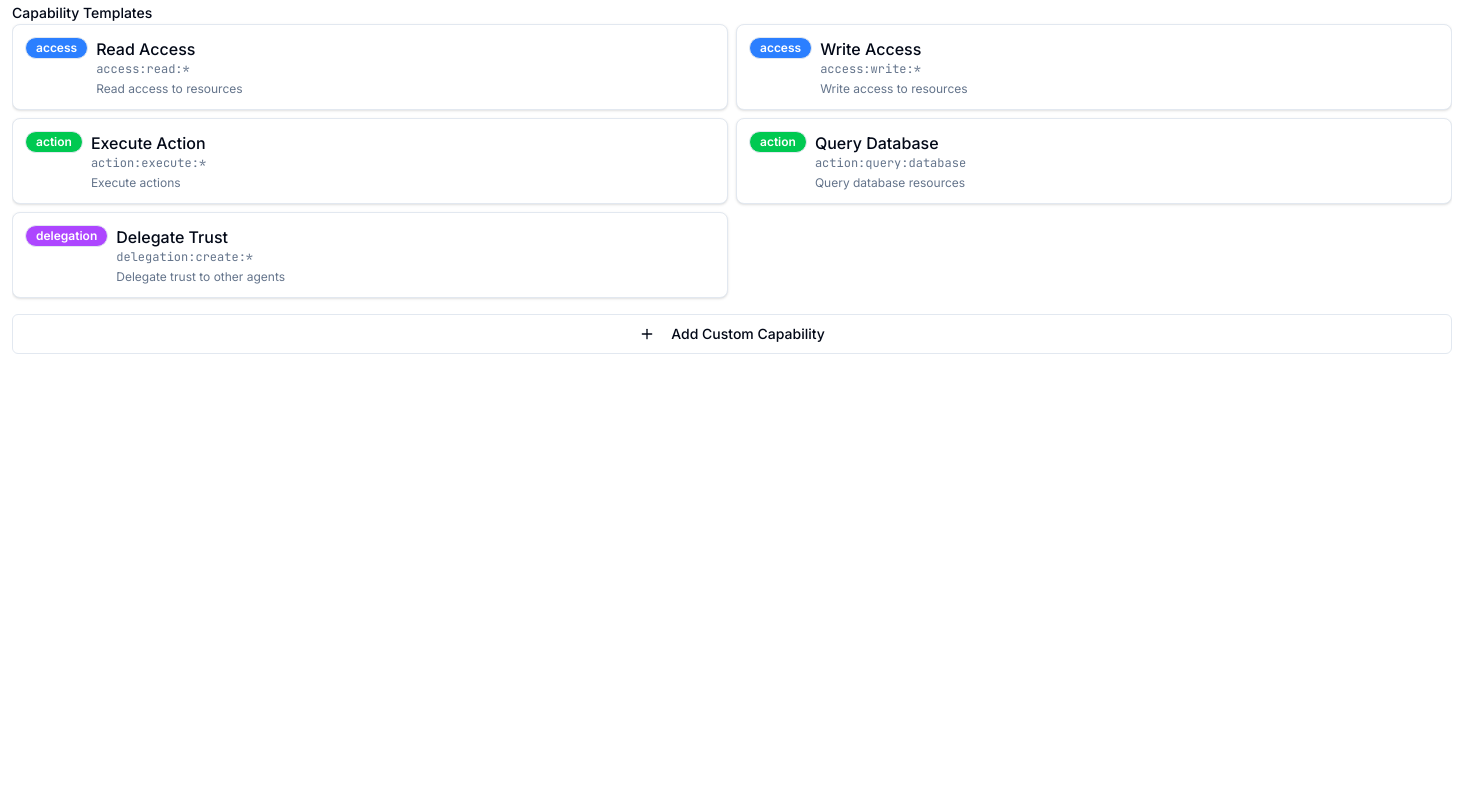
Test: CapabilityEditor › shows custom capability form when button clicked
The image size is (1464, 810).
Click the button "Add Custom Capability".
click(732, 334)  # box [12, 314, 1452, 354]
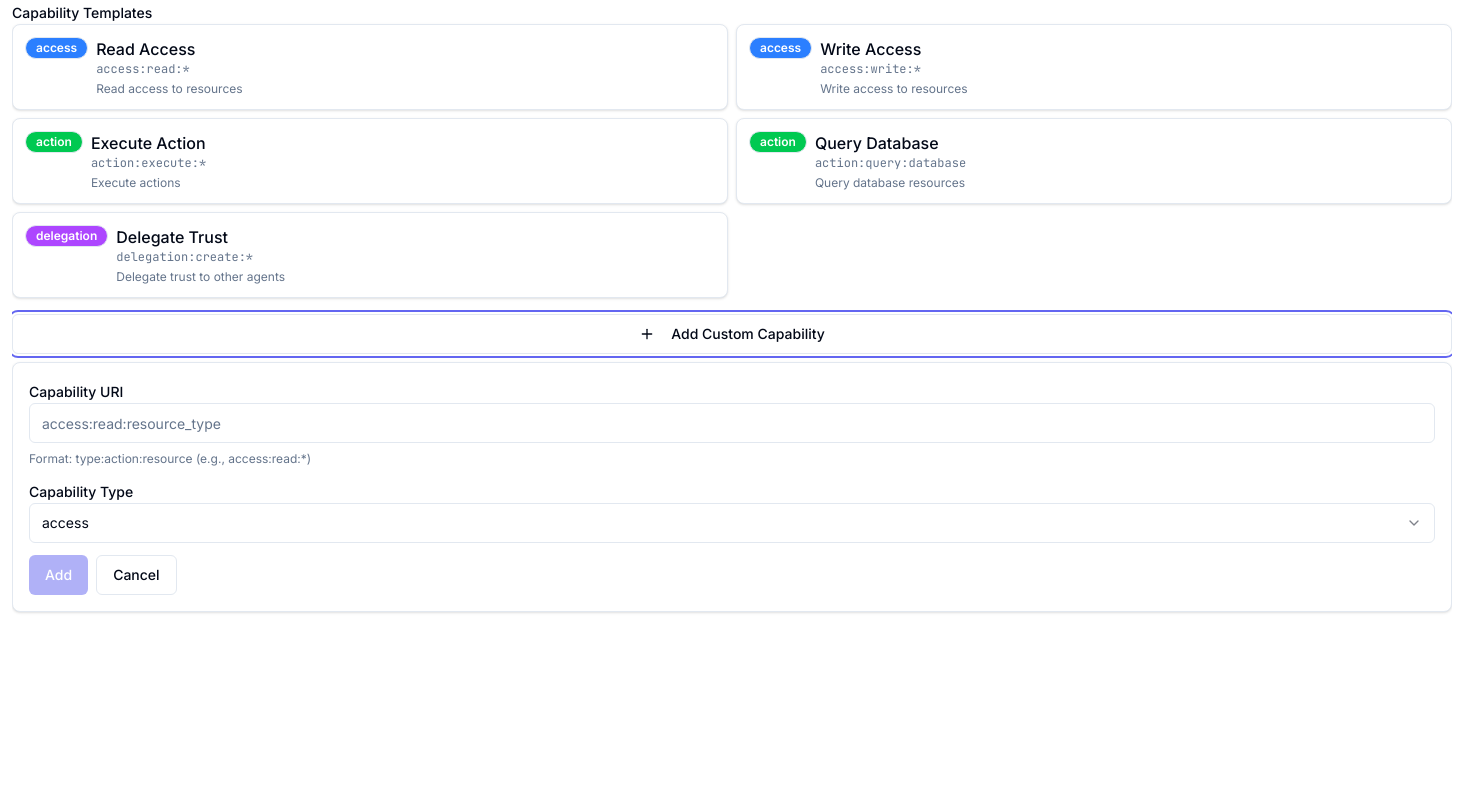
expect the field with placeholder "access:read:resource_type" is shown: met, box [29, 403, 1435, 443]
expect the text "Capability URI" is shown: met, box [29, 383, 123, 400]
